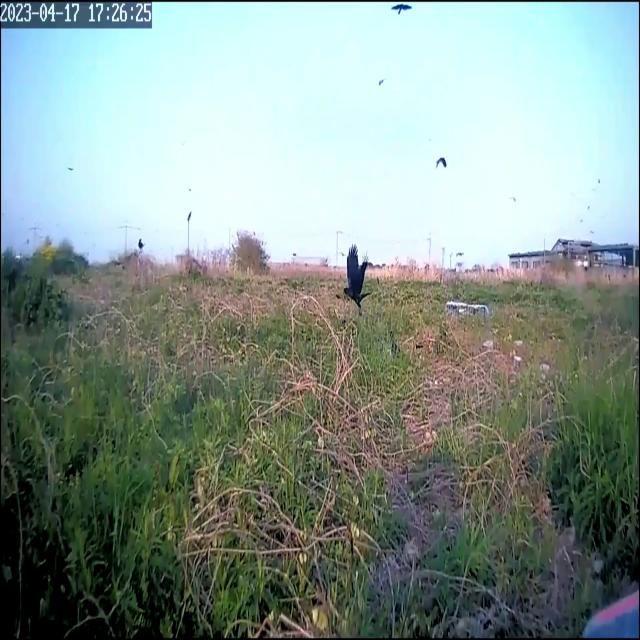bird: (391, 2, 412, 26), (435, 147, 447, 182), (378, 72, 386, 94), (138, 231, 144, 256), (67, 157, 74, 178)
